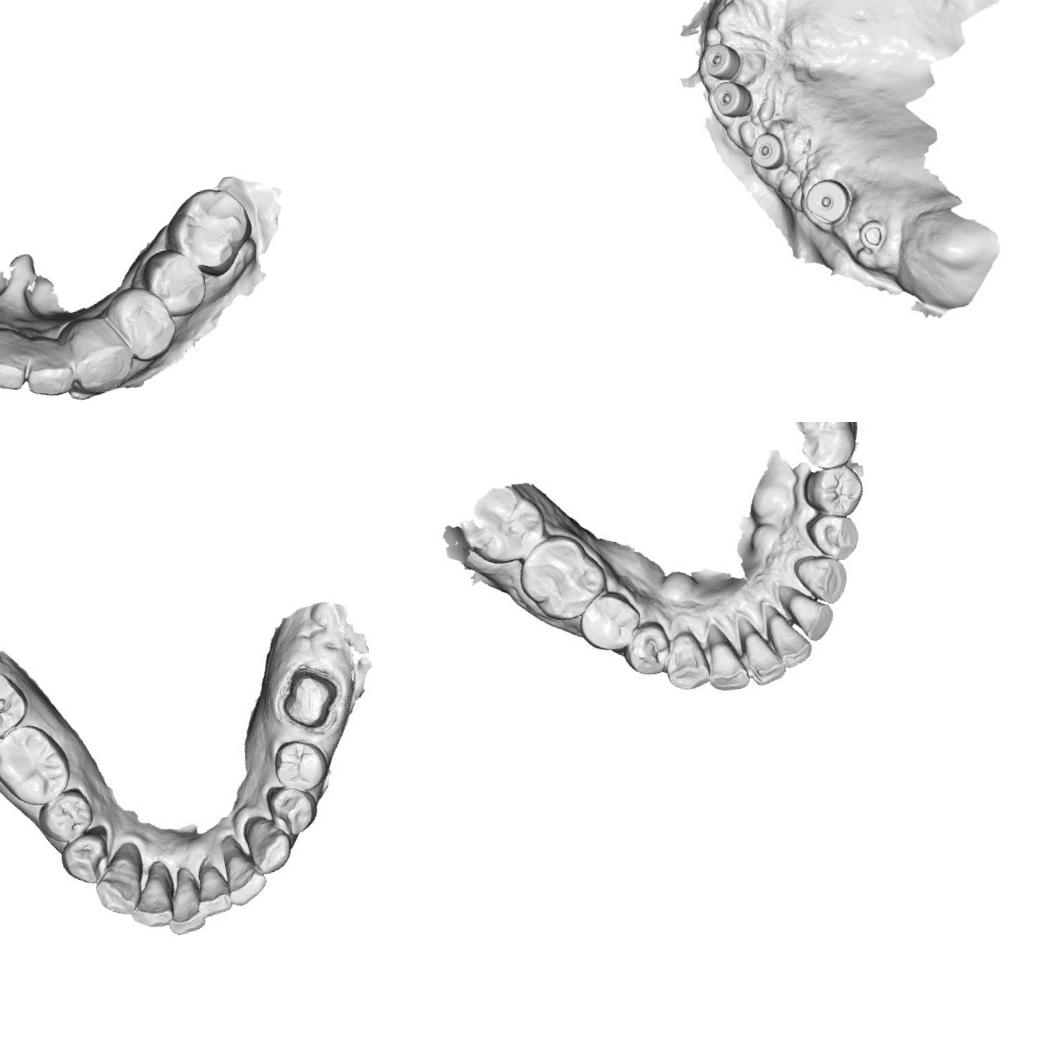canine: (58, 310, 135, 400), (88, 850, 150, 924), (790, 548, 852, 609), (658, 627, 712, 693), (244, 814, 293, 874)
crown: (274, 660, 345, 735)
implant: (800, 174, 854, 225), (705, 78, 758, 124), (742, 126, 793, 172), (697, 39, 739, 85)
incisor: (698, 618, 751, 694), (158, 864, 210, 938), (737, 616, 790, 688), (124, 863, 178, 933), (218, 836, 269, 910), (18, 348, 80, 402), (764, 605, 814, 671), (786, 588, 838, 645), (194, 859, 234, 918), (0, 346, 34, 396)
molar: (156, 179, 259, 284), (511, 525, 612, 627), (452, 478, 551, 570), (0, 716, 75, 811), (788, 422, 860, 473)
premolar: (103, 278, 180, 368), (138, 243, 210, 321), (573, 586, 645, 655), (30, 784, 98, 848), (800, 460, 868, 522), (268, 734, 328, 798), (56, 829, 116, 890), (803, 506, 863, 565), (616, 618, 674, 679), (266, 780, 322, 836), (0, 662, 35, 744)
